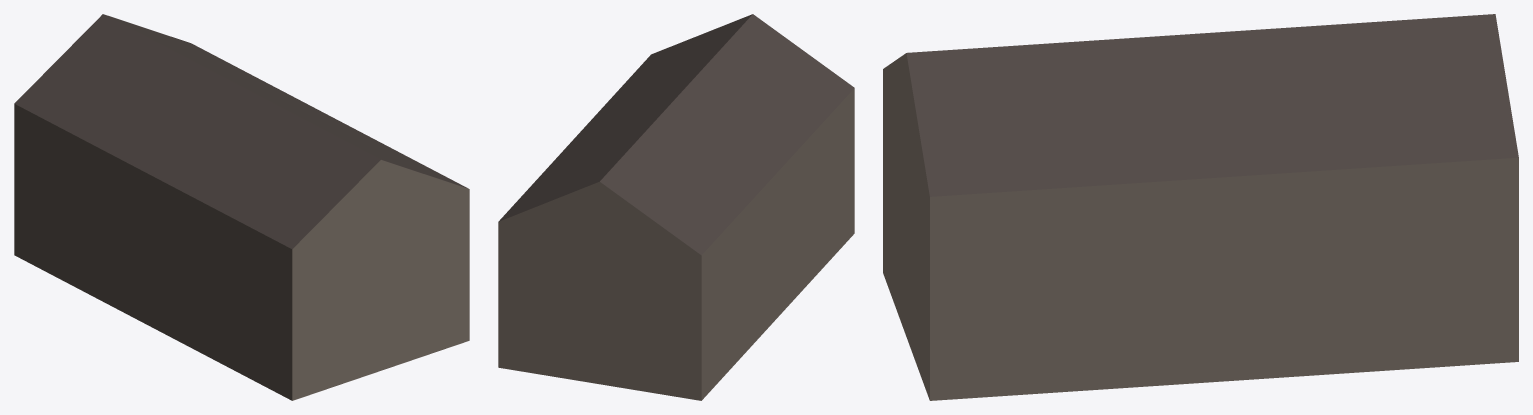
3 views of the same model, side by side, from view 1: azimuth 30°, elevation 25°; view 2: azimuth 150°, elevation 25°; view 3: azimuth 270°, elevation 25° (orthographic). The views are drawn at different scales.
Parts seen in each view (by area): view 1: HP-w1367350939; view 2: HP-w1367350939; view 3: HP-w1367350939.
Part boxes in pixels (box(x1,y1,x2,y2)): HP-w1367350939: box(14, 14, 469, 400); HP-w1367350939: box(498, 14, 854, 400); HP-w1367350939: box(883, 14, 1518, 400).
Bounding box in the file's own units: 15.78 × 12.53 × 25.42.
